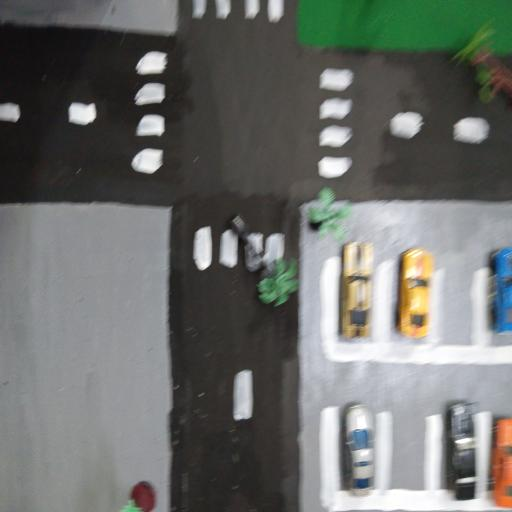fallen trees: (229, 214, 302, 311), (449, 21, 512, 105)
